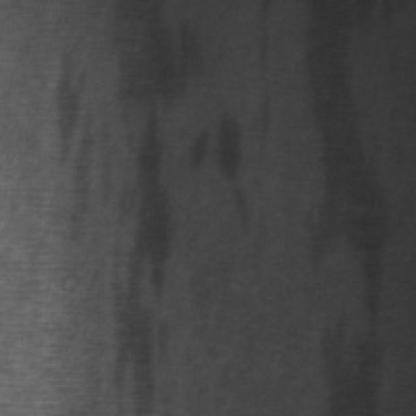inclusion: (297, 2, 391, 389), (98, 6, 193, 375), (48, 39, 91, 212), (204, 107, 256, 226)
